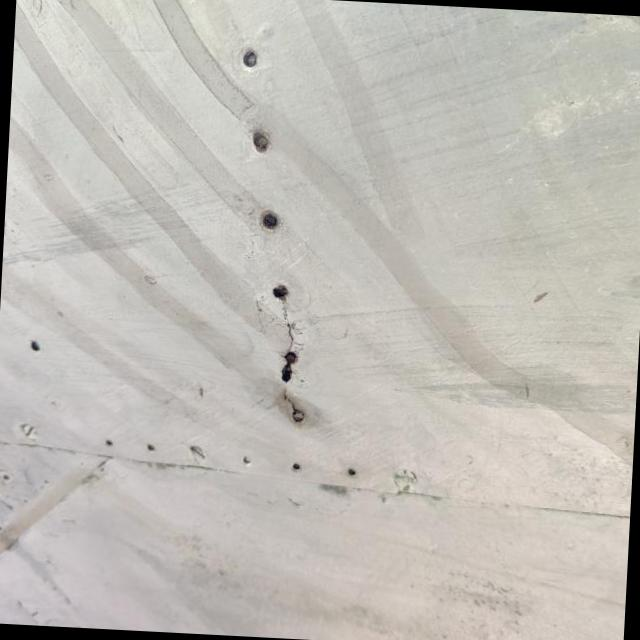Crack: (271, 285, 298, 383)
